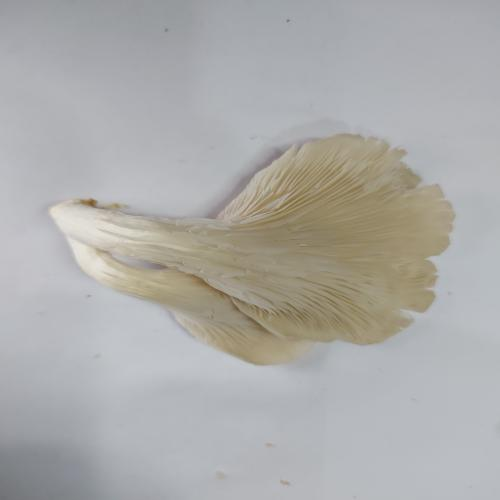Oyster Mushroom: (48, 132, 456, 367)
